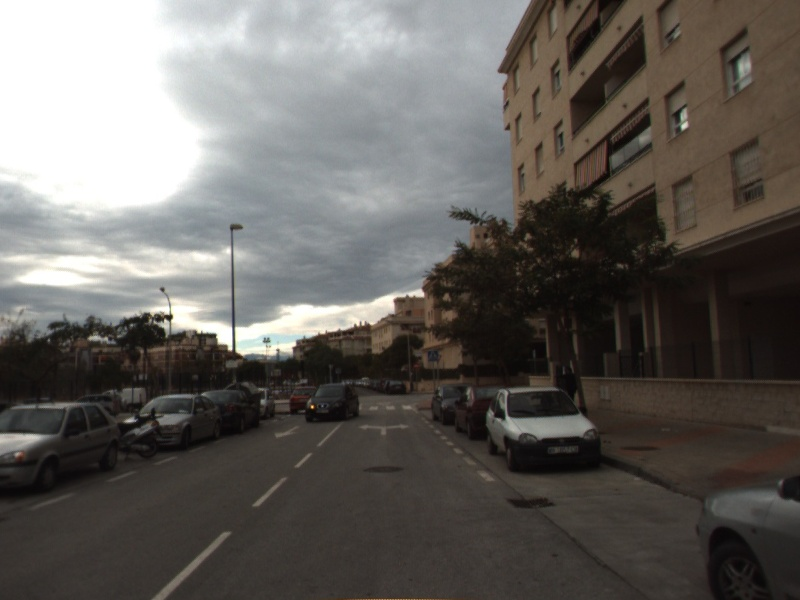LEFT_RIGHT: (356, 421, 411, 437)
